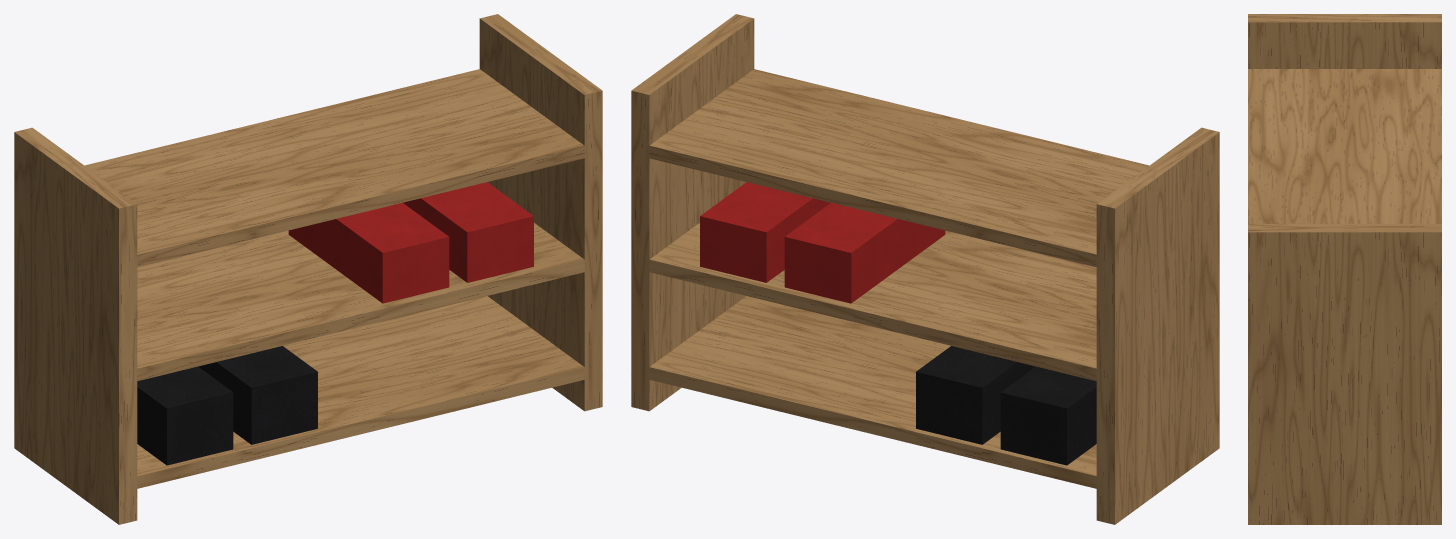
The picture shows the model from 3 angles, left to right: view 1: azimuth 30°, elevation 25°; view 2: azimuth 150°, elevation 25°; view 3: azimuth 270°, elevation 25°; orthographic projection. The views are drawn at different scales.
Parts seen in each view (by area): view 1: ShoeRack_Game; view 2: ShoeRack_Game; view 3: ShoeRack_Game.
Part boxes in pixels (x1,y1,x2,y2): ShoeRack_Game: (14, 14, 602, 524); ShoeRack_Game: (631, 14, 1219, 524); ShoeRack_Game: (1248, 14, 1441, 524).
Size of the model in its own units: 0.8 by 0.5 by 0.3.
3 materials, 3 textured.
